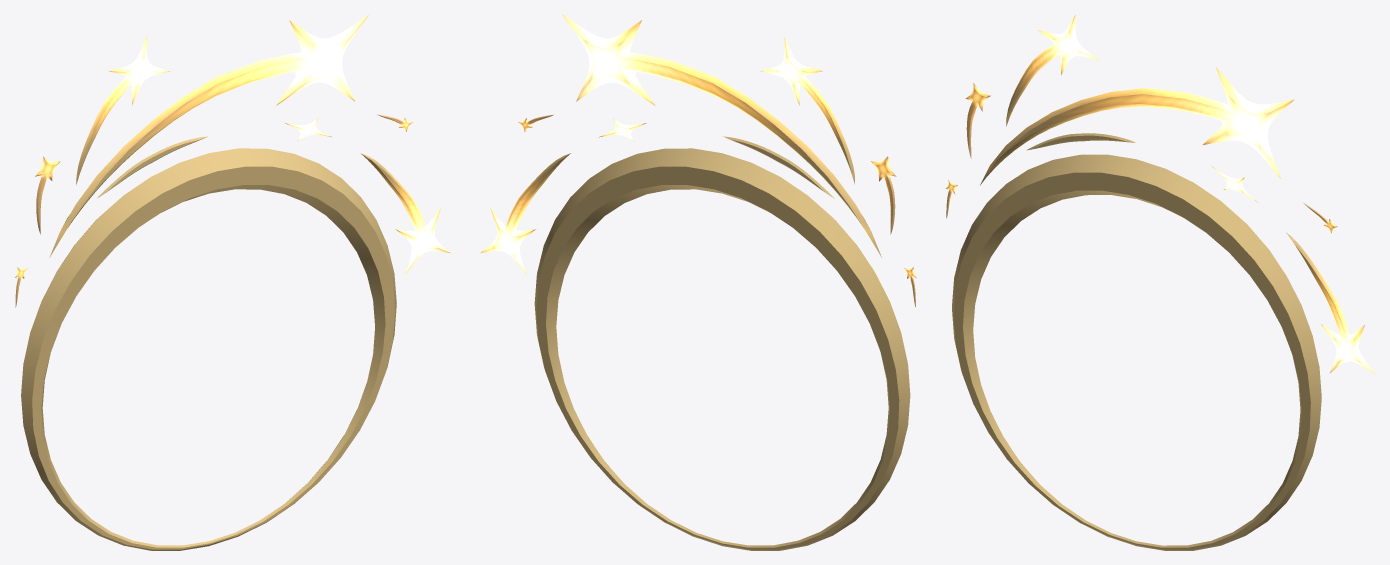
File: Daydream Circle.fbx
3 renders of one model, left to right at view 1: azimuth 30°, elevation 25°; view 2: azimuth 150°, elevation 25°; view 3: azimuth 330°, elevation 25°, orthographic.
Visible parts, largest first — view 1: Daydream Circle; view 2: Daydream Circle; view 3: Daydream Circle.
Boxes of the visible parts, box(x1,y1,x2,y2) form: Daydream Circle: box(15, 14, 450, 550); Daydream Circle: box(481, 14, 916, 550); Daydream Circle: box(946, 15, 1374, 550).
Size of the model in its own units: 0.1998 by 0.2296 by 0.0135.
